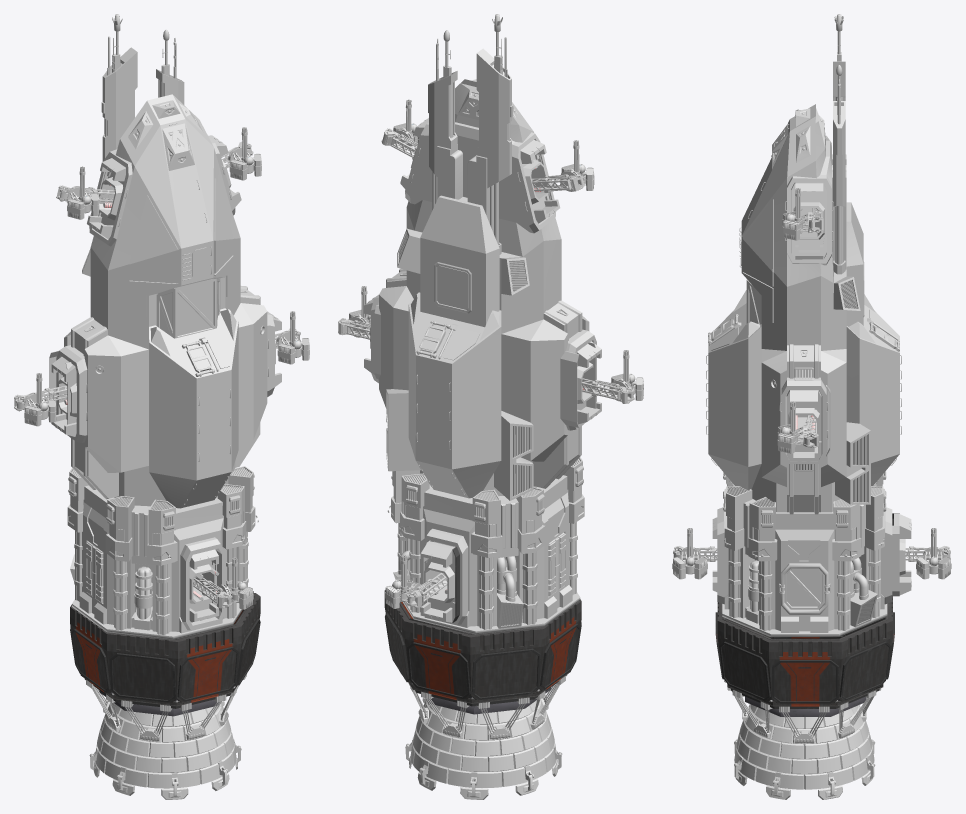
The model's file is Rocinante.fbx.
3 views of the same model, side by side, from view 1: azimuth 30°, elevation 25°; view 2: azimuth 150°, elevation 25°; view 3: azimuth 270°, elevation 25° (orthographic). The views are drawn at different scales.
Parts seen in each view (by area): view 1: Fore_Section, 2_Reactor Housing, 3_Engineering, 1_Engine_Bell, Fore_Section_Airlock_Blast_Door, 3_Engineering.040, 3_Engineering.041, 3_Engineering.038, 3_Engineering.045, 3_Engineering.039, 3_Engineering.024, Aft_Section_Aft_Turret_Nest_Railings_Upper (+10 smaller); view 2: Fore_Section, 2_Reactor Housing, 3_Engineering, 1_Engine_Bell, 3_Engineering.044, 3_Engineering.045, 3_Engineering.042, 3_Engineering.041, Aft_Section_Mid_Hatch_Lower_L, Aft_Section_Aft_Turret_Nest_Railings_Lower, Aft_Section_Aft_Turret_Nest_Lower, 3_Engineering.024 (+11 smaller); view 3: Fore_Section, 2_Reactor Housing, 3_Engineering, 1_Engine_Bell, 3_Engineering.039, 3_Engineering.043, 3_Engineering.038, 3_Engineering.042, 3_Engineering.023, Fore_Section_Fore_Turret_Nest_Railings_R, Fore_Section_Mid_Turret_Nest_R, Fore_Section_Fore_Turret_Nest_R (+11 smaller).
Part boxes in pixels (<box>): Fore_Section: <box>56,14,274,702</box>; 2_Reactor Housing: <box>70,591,260,705</box>; 3_Engineering: <box>70,485,242,639</box>; 1_Engine_Bell: <box>95,702,236,788</box>; Fore_Section_Airlock_Blast_Door: <box>156,278,220,338</box>; 3_Engineering.040: <box>147,499,177,635</box>; 3_Engineering.041: <box>105,496,134,630</box>; 3_Engineering.038: <box>217,484,246,618</box>; 3_Engineering.045: <box>67,468,88,601</box>; 3_Engineering.039: <box>228,466,255,587</box>; 3_Engineering.024: <box>86,541,103,602</box>; Aft_Section_Aft_Turret_Nest_Railings_Upper: <box>189,561,215,611</box>; Fore_Section: <box>371,14,596,698</box>; 2_Reactor Housing: <box>384,585,581,702</box>; 3_Engineering: <box>393,475,580,634</box>; 1_Engine_Bell: <box>410,699,556,787</box>; 3_Engineering.044: <box>471,489,502,629</box>; 3_Engineering.045: <box>516,487,545,624</box>; 3_Engineering.042: <box>400,473,429,612</box>; 3_Engineering.041: <box>563,457,584,594</box>; Aft_Section_Mid_Hatch_Lower_L: <box>560,351,579,427</box>; Aft_Section_Aft_Turret_Nest_Railings_Lower: <box>424,558,455,611</box>; Aft_Section_Aft_Turret_Nest_Lower: <box>420,541,455,622</box>; 3_Engineering.024: <box>548,532,566,596</box>; Fore_Section: <box>706,14,901,701</box>; 2_Reactor Housing: <box>715,596,894,705</box>; 3_Engineering: <box>717,482,892,636</box>; 1_Engine_Bell: <box>734,704,874,789</box>; 3_Engineering.039: <box>748,497,777,630</box>; 3_Engineering.043: <box>832,498,861,630</box>; 3_Engineering.038: <box>724,486,752,617</box>; 3_Engineering.042: <box>864,486,884,617</box>; 3_Engineering.023: <box>784,568,824,609</box>; Fore_Section_Fore_Turret_Nest_Railings_R: <box>792,194,826,249</box>; Fore_Section_Mid_Turret_Nest_R: <box>786,390,821,461</box>; Fore_Section_Fore_Turret_Nest_R: <box>792,182,826,259</box>.
Bounding box in the file's own units: 5216 × 4481 × 13135.
